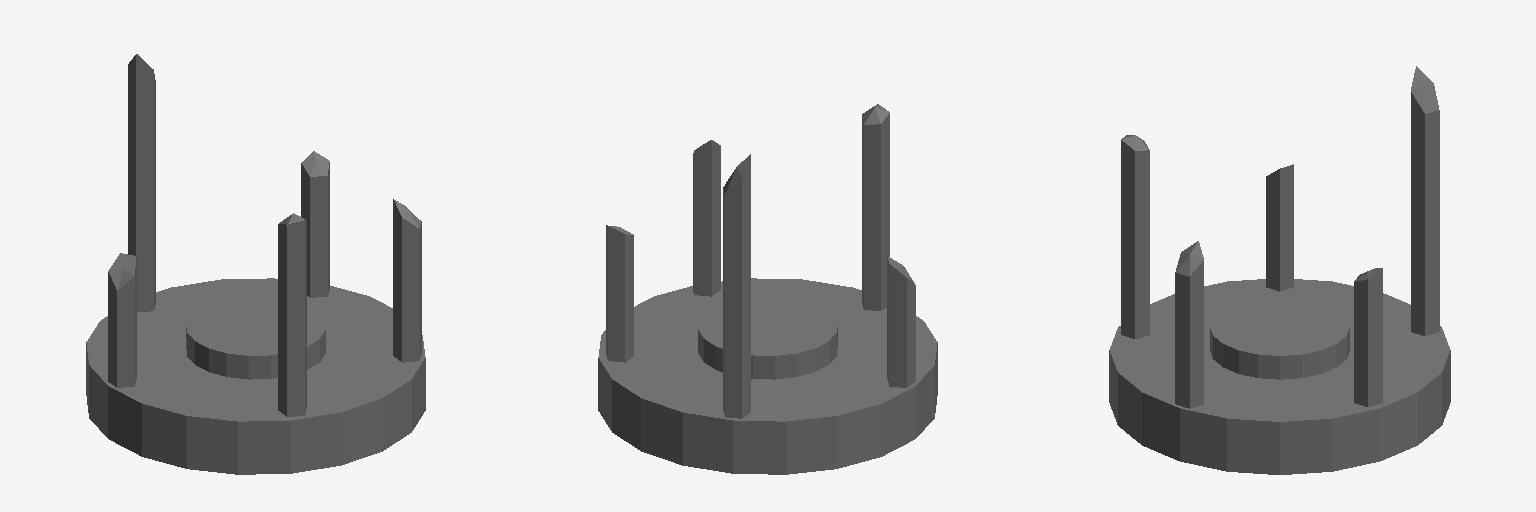
Rendered from conn1.obj.
3 renders of one model, left to right at view 1: azimuth 30°, elevation 25°; view 2: azimuth 150°, elevation 25°; view 3: azimuth 270°, elevation 25°, orthographic.
Parts seen in each view (by area): view 1: conn1:pCylinder1; view 2: conn1:pCylinder1; view 3: conn1:pCylinder1.
Part boxes in pixels (x1,y1,x2,y2): conn1:pCylinder1: (86,54,425,474); conn1:pCylinder1: (598,104,937,474); conn1:pCylinder1: (1109,66,1450,474).
Size of the model in its own units: 17.36 by 18.56 by 17.36.